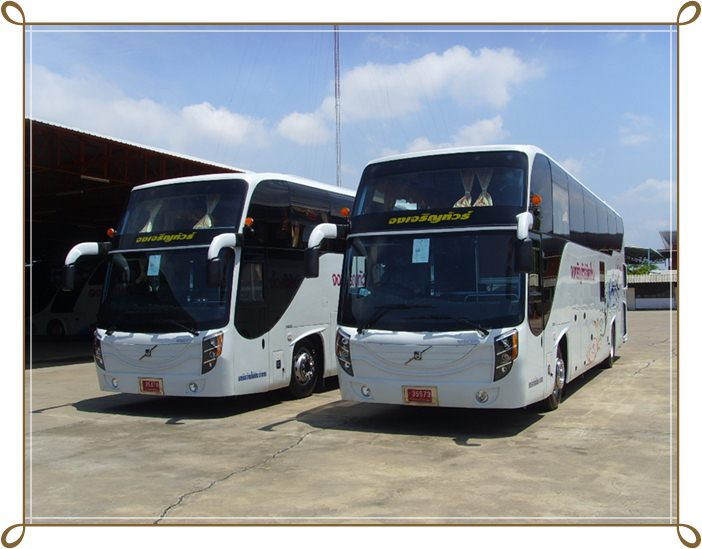bus: (334, 145, 628, 408), (92, 170, 329, 401)
